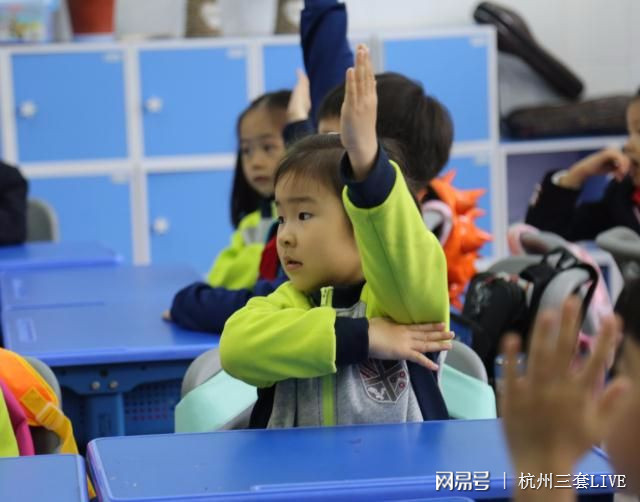handsup: (194, 42, 471, 433)
